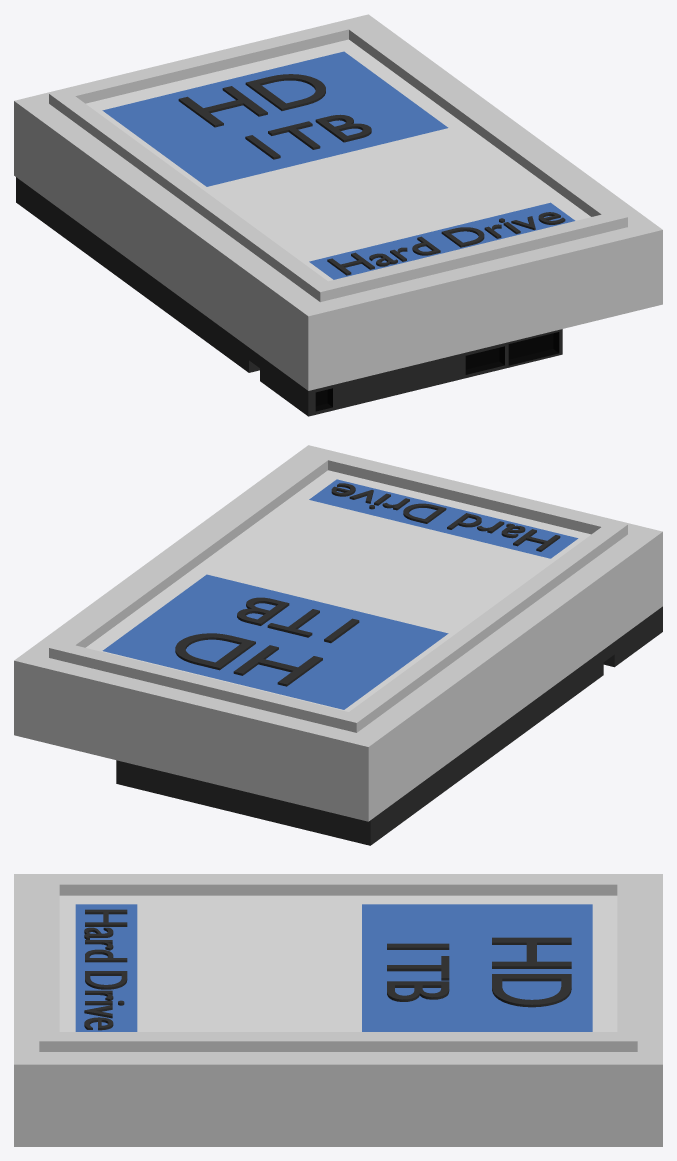
The model's file is Middle lvl hard drive.fbx.
3 renders of one model, top to bottom at view 1: azimuth 30°, elevation 25°; view 2: azimuth 150°, elevation 25°; view 3: azimuth 270°, elevation 25°, orthographic. The views are drawn at different scales.
Parts seen in each view (by area): view 1: Cube.009, Cube.001, Retopo_Text, Retopo_Text.001, Retopo_Text.002; view 2: Cube.009, Cube.001, Retopo_Text, Retopo_Text.001, Retopo_Text.002; view 3: Cube.009, Retopo_Text, Retopo_Text.001, Retopo_Text.002.
Part boxes in pixels (x1=…): Cube.009: x1=14, y1=14, x2=662, y2=390; Cube.001: x1=16, y1=177, x2=562, y2=416; Retopo_Text: x1=178, y1=74, x2=325, y2=127; Retopo_Text.001: x1=327, y1=212, x2=565, y2=275; Retopo_Text.002: x1=245, y1=114, x2=371, y2=159; Cube.009: x1=14, y1=445, x2=662, y2=821; Cube.001: x1=116, y1=606, x2=662, y2=845; Retopo_Text: x1=175, y1=633, x2=322, y2=686; Retopo_Text.001: x1=331, y1=483, x2=560, y2=551; Retopo_Text.002: x1=237, y1=597, x2=359, y2=643; Cube.009: x1=14, y1=874, x2=662, y2=1146; Retopo_Text: x1=492, y1=937, x2=571, y2=1007; Retopo_Text.001: x1=84, y1=909, x2=127, y2=1030; Retopo_Text.002: x1=387, y1=943, x2=449, y2=1001.
Bounding box in the file's own units: 186 × 55.38 × 268.
